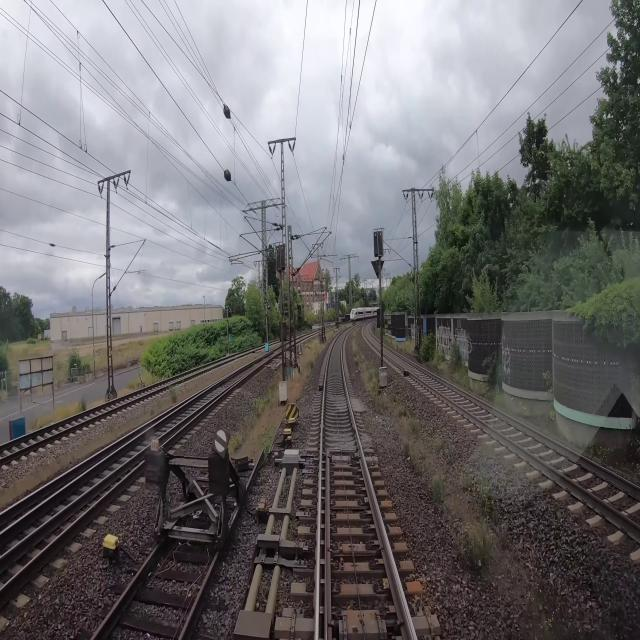Plant: (477, 476, 513, 556), (457, 513, 494, 575), (393, 393, 423, 438), (355, 351, 380, 405), (401, 429, 423, 473), (253, 383, 275, 416), (432, 468, 447, 511), (231, 429, 244, 453), (261, 429, 273, 454)
